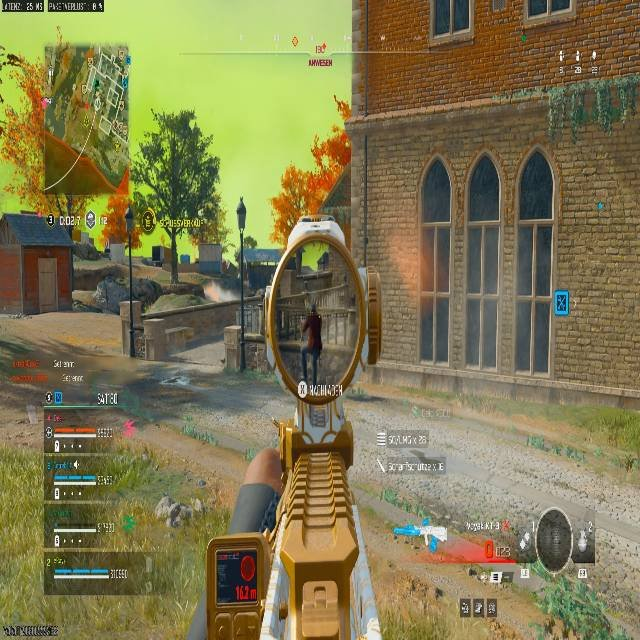player: (302, 311, 321, 369)
